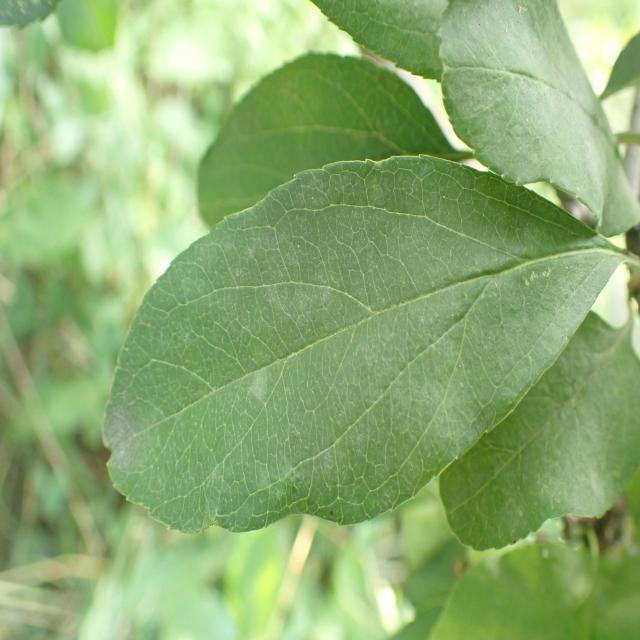Powdery_mildew: (106, 172, 560, 510)
